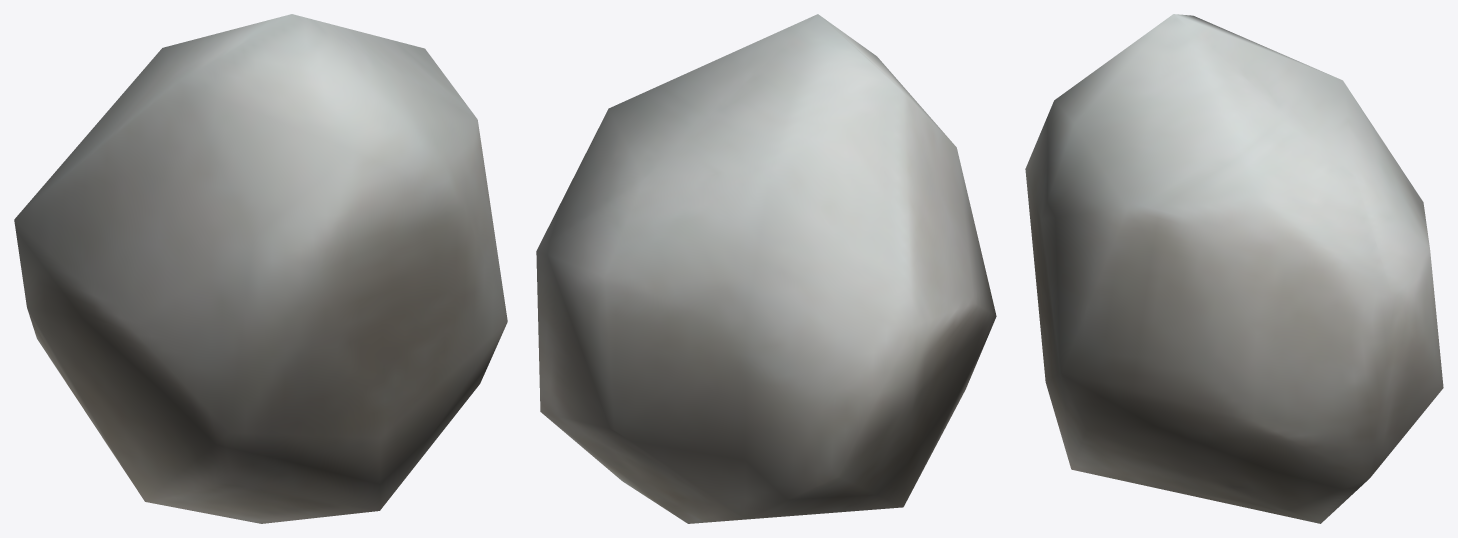
File: SM_Gem_Silver_Piece_002.fbx
3 views of the same model, side by side, from view 1: azimuth 30°, elevation 25°; view 2: azimuth 150°, elevation 25°; view 3: azimuth 270°, elevation 25° (orthographic). The views are drawn at different scales.
Parts seen in each view (by area): view 1: SM_Gem_Silver_Piece_002; view 2: SM_Gem_Silver_Piece_002; view 3: SM_Gem_Silver_Piece_002.
Boxes of the visible parts, <box> form: SM_Gem_Silver_Piece_002: <box>14,14,507,523</box>; SM_Gem_Silver_Piece_002: <box>536,14,996,523</box>; SM_Gem_Silver_Piece_002: <box>1025,14,1443,523</box>.
Bounding box in the file's own units: 14.1 × 16.99 × 13.34.
